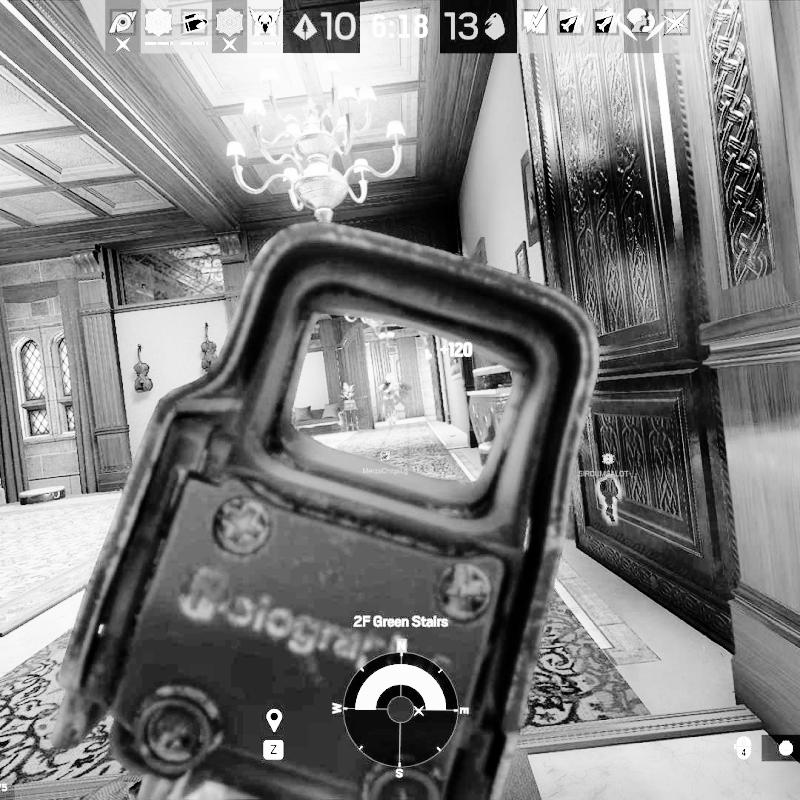Character: (378, 371, 402, 428)
Friend_label: (575, 449, 630, 479), (360, 449, 409, 477)
Head: (385, 373, 395, 383)
